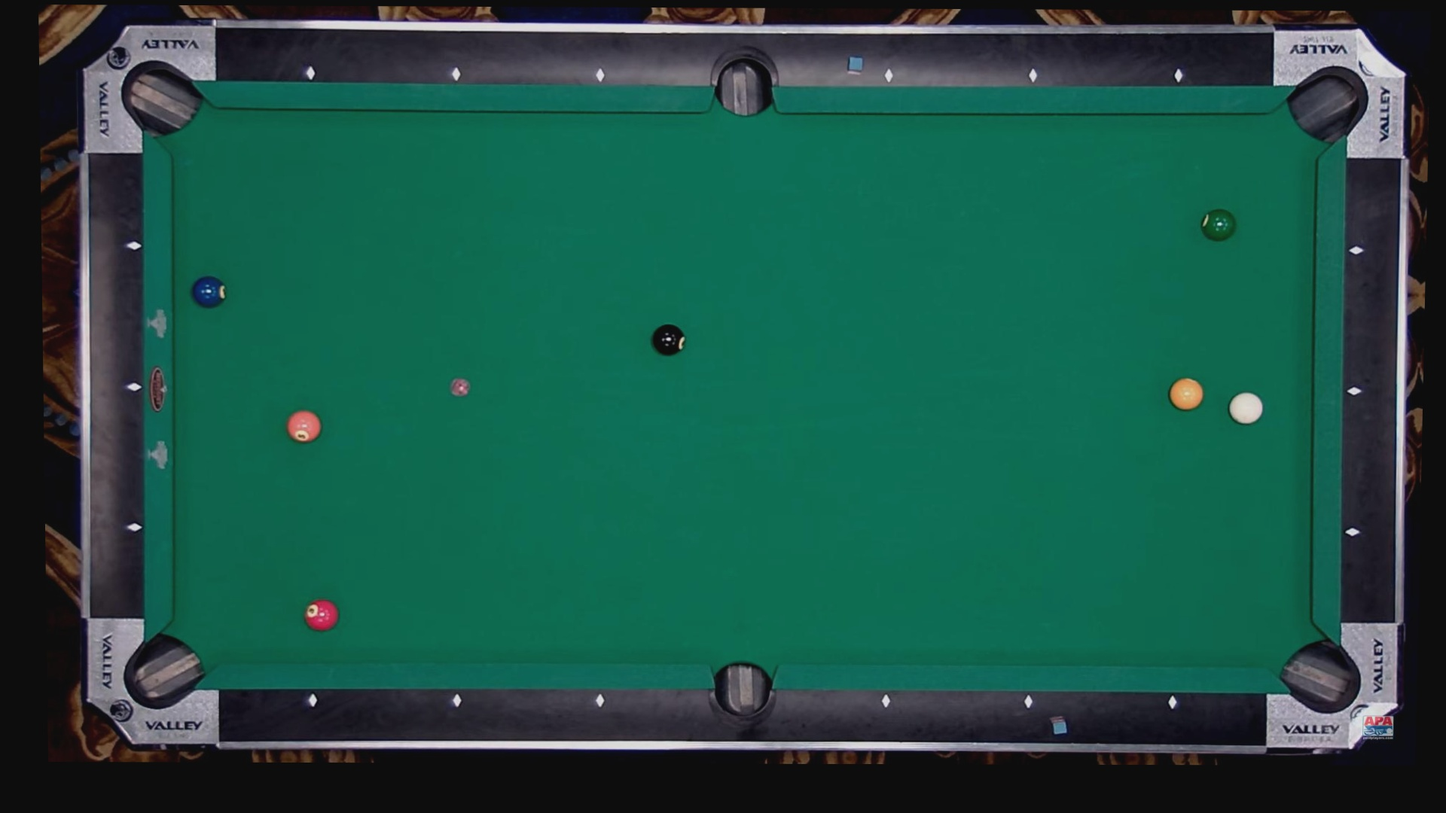Black: (305, 68, 316, 79), (595, 70, 606, 81), (129, 382, 139, 393), (451, 69, 462, 79), (1028, 71, 1039, 81), (1173, 71, 1184, 81), (1350, 246, 1361, 256), (1349, 386, 1359, 397), (1167, 698, 1178, 708), (1023, 697, 1033, 708), (880, 697, 891, 707), (595, 695, 605, 706), (451, 695, 461, 706), (306, 694, 317, 704), (129, 523, 139, 533), (129, 241, 139, 251), (884, 71, 894, 81), (1348, 528, 1358, 538)
Cue: (1199, 208, 1237, 243), (1168, 377, 1204, 411), (190, 275, 226, 309), (304, 598, 339, 632), (286, 410, 322, 443)
Solid: (652, 323, 687, 357)
Stripe: (1228, 391, 1264, 425)
